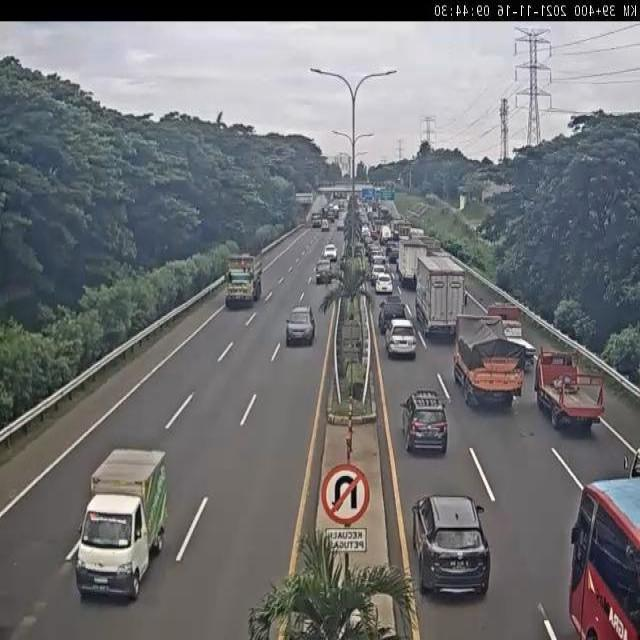Bus: (564, 472, 640, 640)
Car: (412, 494, 491, 597), (400, 388, 448, 454), (384, 318, 418, 360), (378, 293, 408, 338), (285, 305, 316, 346), (374, 272, 394, 294), (370, 263, 387, 284), (323, 244, 338, 262), (385, 238, 398, 258), (387, 250, 401, 266), (361, 225, 370, 240), (321, 219, 330, 231), (336, 218, 345, 230)
Truck: (73, 446, 170, 606), (452, 313, 527, 415), (534, 347, 610, 434), (414, 254, 466, 341), (485, 302, 538, 372), (224, 251, 263, 312), (397, 238, 429, 287), (379, 223, 392, 244), (310, 213, 322, 228)
